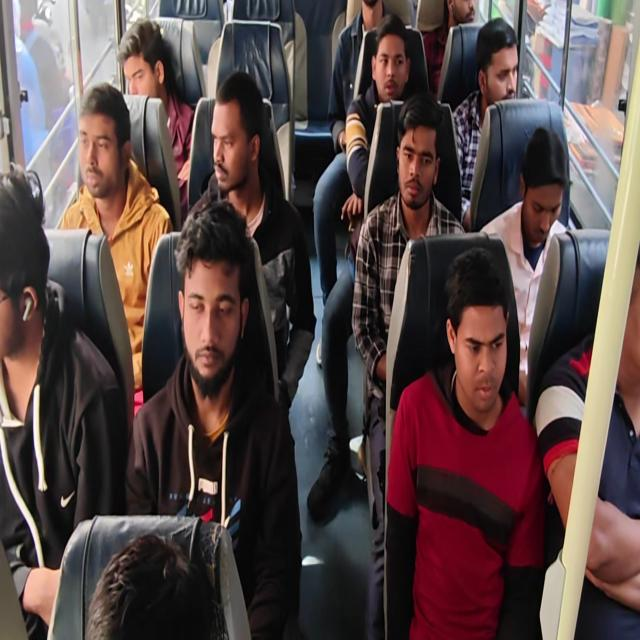person: (1, 1, 638, 638), (124, 198, 302, 638), (384, 246, 546, 638), (351, 91, 466, 638), (0, 164, 126, 638), (306, 13, 413, 522), (186, 70, 316, 417), (534, 244, 639, 638), (56, 82, 173, 412), (479, 125, 568, 406), (312, 0, 390, 306), (341, 13, 412, 281), (116, 17, 194, 222), (85, 532, 219, 639), (452, 17, 519, 228), (422, 0, 475, 97)
